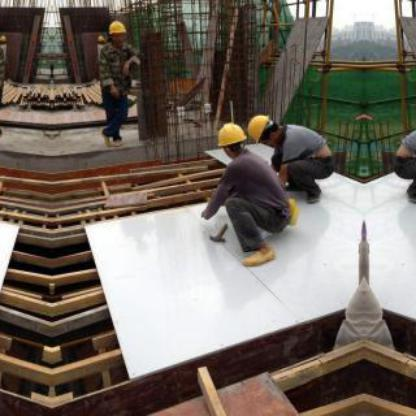helmet: (245, 114, 272, 145), (216, 122, 247, 146), (106, 21, 129, 34)
